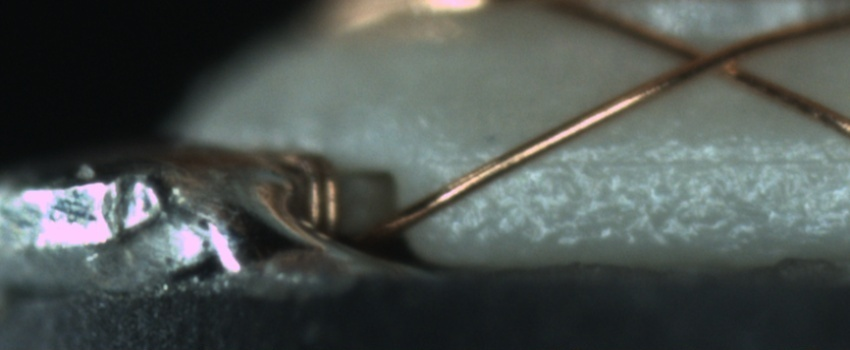CL: (668, 32, 756, 84)
DL: (511, 128, 849, 194)
TE: (272, 146, 348, 241)
